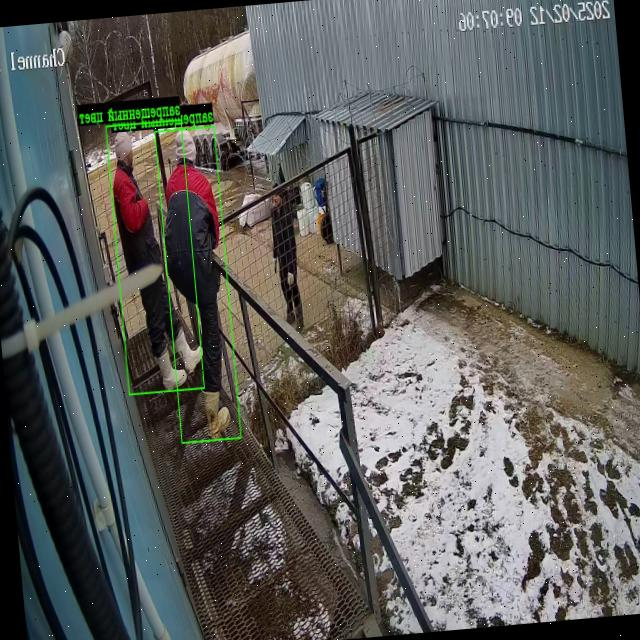Person: (272, 202, 304, 325)
Red uniform: (165, 131, 222, 394), (113, 132, 161, 274), (140, 274, 176, 388)
